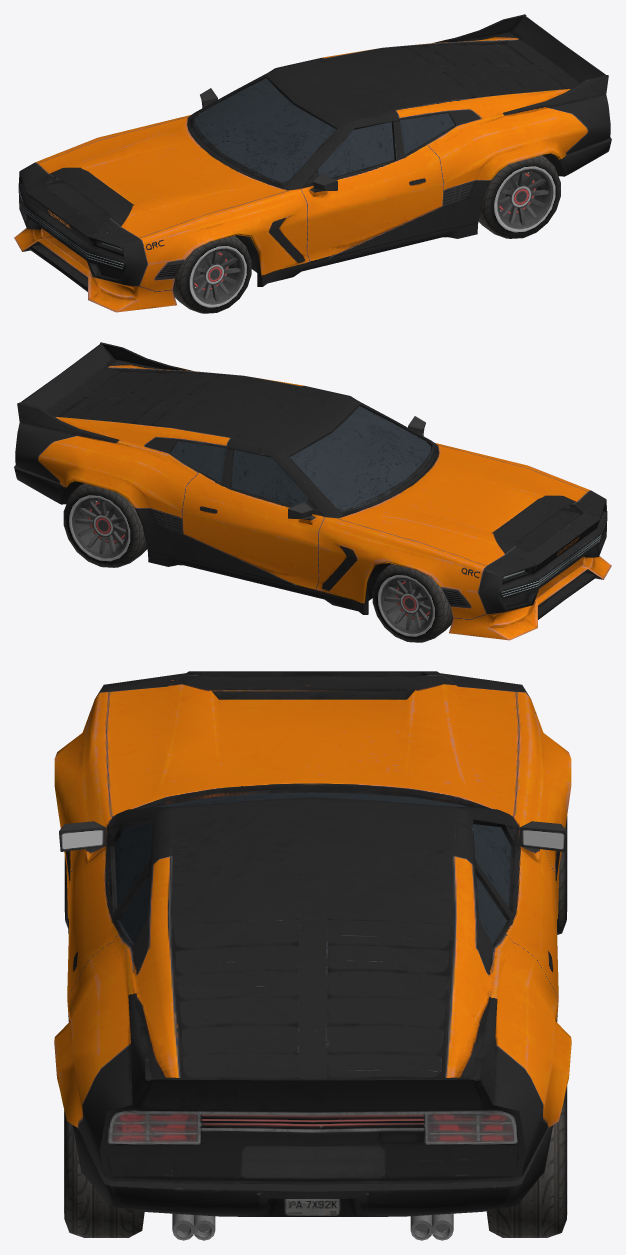
File: CP_Quadron.fbx
3 renders of one model, top to bottom at view 1: azimuth 30°, elevation 25°; view 2: azimuth 150°, elevation 25°; view 3: azimuth 270°, elevation 25°, orthographic. The views are drawn at different scales.
Parts seen in each view (by area): view 1: CP_Quadron_LOD0, CP_Quadron_Wheel_02_LOD0, CP_Quadron_Wheel_01_LOD0; view 2: CP_Quadron_LOD0, CP_Quadron_Wheel_03_LOD0, CP_Quadron_Wheel_04_LOD0; view 3: CP_Quadron_LOD0, CP_Quadron_Wheel_03_LOD0, CP_Quadron_Wheel_02_LOD0, CP_Quadron_Wheel_04_LOD0.
Part boxes in pixels (x1,y1,x2,y2): CP_Quadron_LOD0: (14, 14, 611, 312); CP_Quadron_Wheel_02_LOD0: (478, 155, 560, 238); CP_Quadron_Wheel_01_LOD0: (172, 235, 251, 313); CP_Quadron_LOD0: (14, 342, 611, 640); CP_Quadron_Wheel_03_LOD0: (63, 483, 147, 567); CP_Quadron_Wheel_04_LOD0: (372, 563, 453, 642); CP_Quadron_LOD0: (54, 671, 571, 1240); CP_Quadron_Wheel_03_LOD0: (486, 1086, 567, 1237); CP_Quadron_Wheel_02_LOD0: (64, 1109, 144, 1237); CP_Quadron_Wheel_04_LOD0: (557, 816, 567, 934).
Size of what is drawn, in the model's own units: 526 by 137 by 230.
